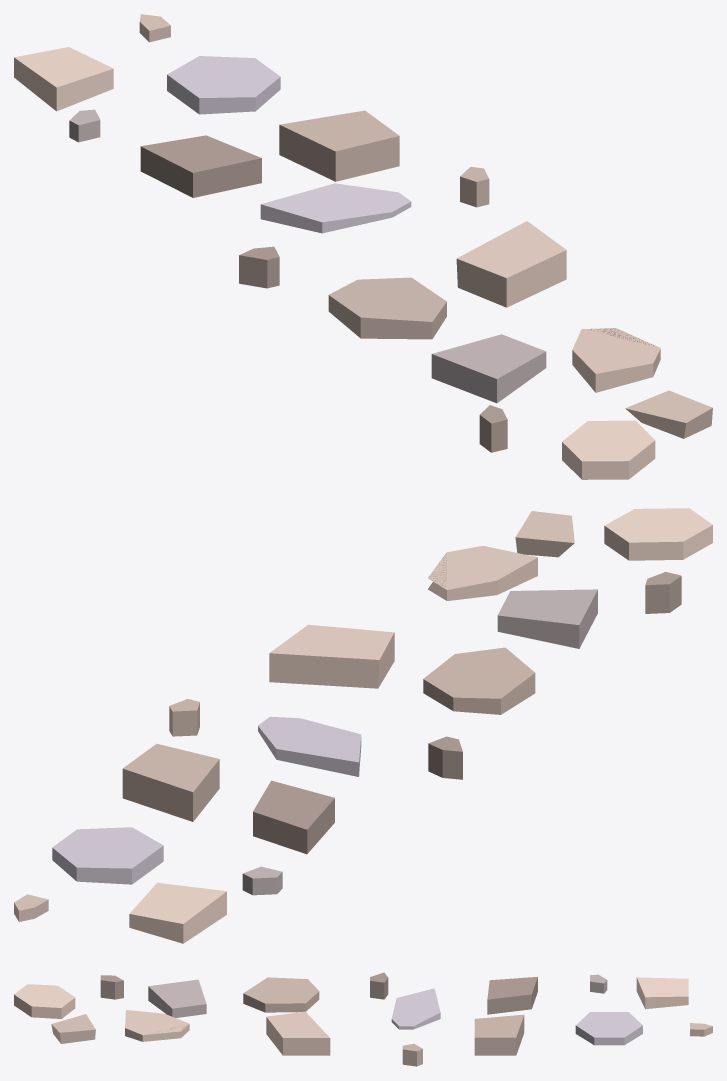
The model's file is Wege vom König2Mittig.fbx.
The picture shows the model from 3 angles, top to bottom: view 1: azimuth 30°, elevation 25°; view 2: azimuth 150°, elevation 25°; view 3: azimuth 270°, elevation 25°; orthographic projection. The views are drawn at different scales.
Parts seen in each view (by area): view 1: Cube.001, Cube.005, Cylinder.006, Cube.002, Cube.006, Cylinder.005, Cylinder.003, Cylinder.001, Cube.003, Cylinder.002, Cube, Cylinder.010 (+3 smaller); view 2: Cube.005, Cylinder.006, Cube.001, Cylinder.005, Cube.006, Cylinder.001, Cylinder.002, Cube.002, Cylinder.003, Cube.003, Cube, Cylinder.008 (+4 smaller); view 3: Cube.005, Cylinder.006, Cube.001, Cylinder.005, Cube.006, Cylinder.001, Cube.002, Cylinder.002, Cylinder.003, Cube.003, Cube, Cylinder.008 (+4 smaller).
Part boxes in pixels (x1=…): Cube.001: x1=279, y1=110, x2=399, y2=181; Cube.005: x1=456, y1=221, x2=566, y2=307; Cylinder.006: x1=328, y1=277, x2=446, y2=339; Cube.002: x1=140, y1=135, x2=261, y2=197; Cube.006: x1=431, y1=334, x2=546, y2=403; Cylinder.005: x1=167, y1=56, x2=280, y2=114; Cylinder.003: x1=260, y1=183, x2=411, y2=233; Cylinder.001: x1=562, y1=420, x2=655, y2=479; Cube.003: x1=14, y1=47, x2=113, y2=111; Cylinder.002: x1=572, y1=328, x2=660, y2=392; Cube: x1=625, y1=390, x2=712, y2=438; Cylinder.010: x1=239, y1=246, x2=279, y2=288; Cube.005: x1=269, y1=624, x2=394, y2=688; Cylinder.006: x1=423, y1=647, x2=535, y2=714; Cube.001: x1=122, y1=743, x2=219, y2=821; Cylinder.005: x1=52, y1=827, x2=163, y2=884; Cube.006: x1=497, y1=589, x2=597, y2=648; Cylinder.001: x1=604, y1=508, x2=712, y2=560; Cylinder.002: x1=428, y1=546, x2=537, y2=600; Cube.002: x1=253, y1=780, x2=334, y2=854; Cylinder.003: x1=258, y1=716, x2=361, y2=776; Cube.003: x1=129, y1=882, x2=226, y2=943; Cube: x1=515, y1=511, x2=574, y2=557; Cylinder.008: x1=645, y1=572, x2=681, y2=613; Cube.005: x1=266, y1=1011, x2=330, y2=1055; Cylinder.006: x1=243, y1=977, x2=319, y2=1012; Cube.001: x1=474, y1=1014, x2=524, y2=1055; Cylinder.005: x1=575, y1=1012, x2=642, y2=1045; Cube.006: x1=148, y1=979, x2=206, y2=1017; Cylinder.001: x1=14, y1=984, x2=75, y2=1018; Cube.002: x1=487, y1=976, x2=537, y2=1014; Cylinder.002: x1=125, y1=1010, x2=189, y2=1041; Cylinder.003: x1=391, y1=988, x2=440, y2=1029; Cube.003: x1=636, y1=977, x2=688, y2=1009; Cube: x1=51, y1=1014, x2=95, y2=1043; Cylinder.008: x1=100, y1=975, x2=123, y2=999.
Size of the model in its own units: 26.57 by 3.42 by 99.02.
